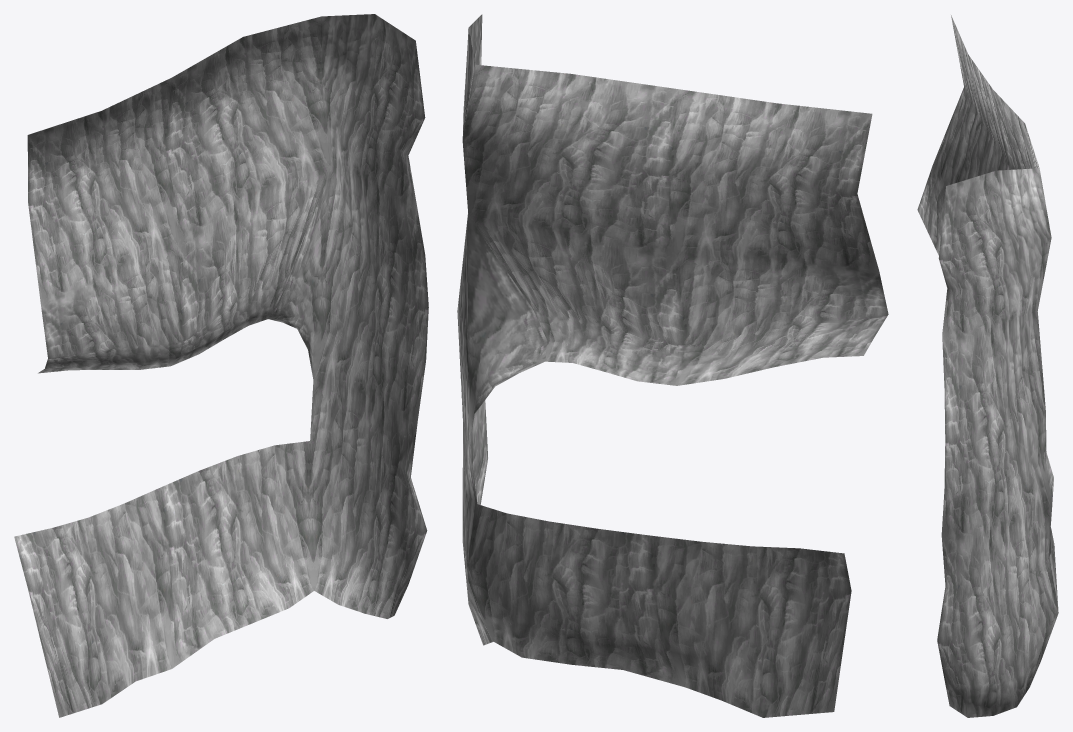
File: SWORDLIGHT20_PS-AREA03_31.fbx
The picture shows the model from 3 angles, left to right: view 1: azimuth 30°, elevation 25°; view 2: azimuth 150°, elevation 25°; view 3: azimuth 270°, elevation 25°; orthographic projection. The views are drawn at different scales.
Visible parts, largest first — view 1: SWORDLIGHT20_PS-AREA03_31; view 2: SWORDLIGHT20_PS-AREA03_31; view 3: SWORDLIGHT20_PS-AREA03_31.
Part boxes in pixels (<box>): SWORDLIGHT20_PS-AREA03_31: <box>14,14,428,717</box>; SWORDLIGHT20_PS-AREA03_31: <box>457,14,888,717</box>; SWORDLIGHT20_PS-AREA03_31: <box>917,15,1058,717</box>.
Size of the model in its own units: 181929 by 268804 by 60399.
2 materials, 2 textured.
